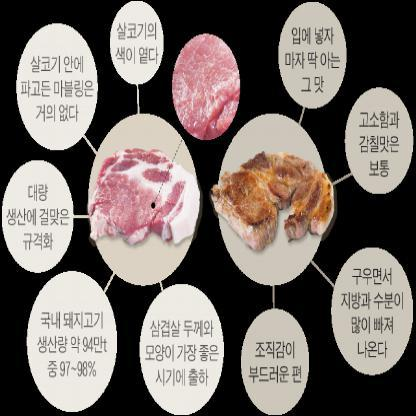pork: (213, 159, 335, 254), (86, 152, 198, 247)
